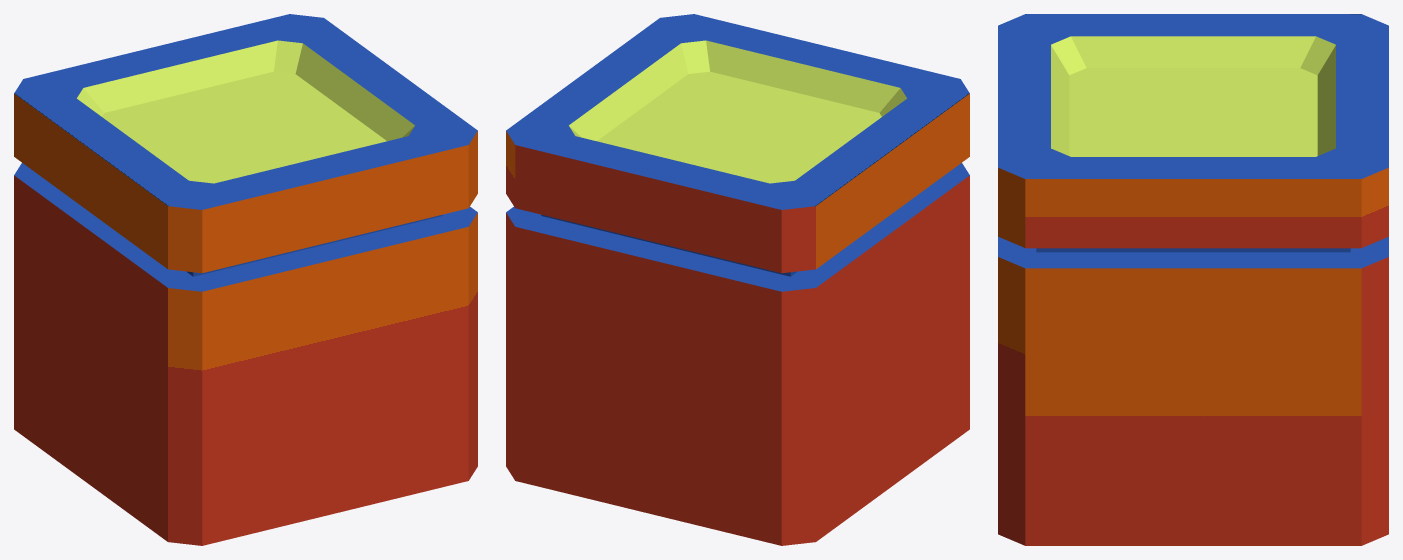
Rendered from BulletBox.fbx.
3 renders of one model, left to right at view 1: azimuth 30°, elevation 25°; view 2: azimuth 150°, elevation 25°; view 3: azimuth 270°, elevation 25°, orthographic. The views are drawn at different scales.
Parts seen in each view (by area): view 1: pCube1; view 2: pCube1; view 3: pCube1.
Boxes of the visible parts, left/top/right/bottom form: pCube1: left=14, top=14, right=477, bottom=545; pCube1: left=506, top=14, right=969, bottom=545; pCube1: left=998, top=14, right=1388, bottom=545.
Bounding box in the file's own units: 1 × 1.04 × 1.
